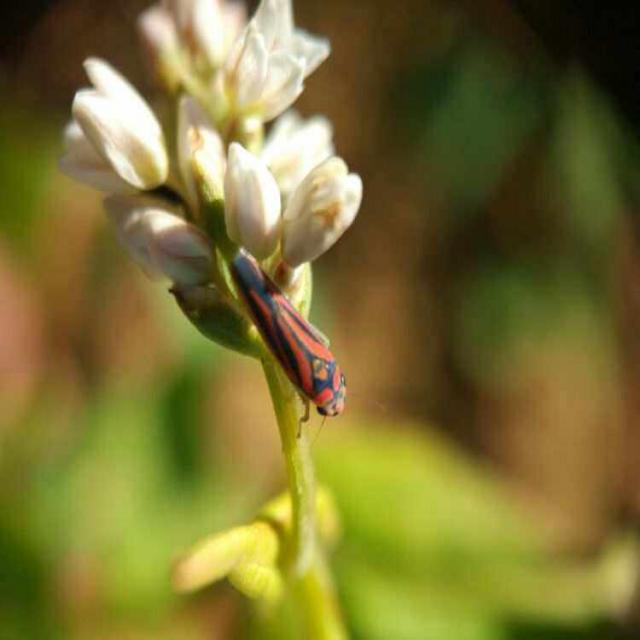Yechan: (219, 232, 356, 436)
